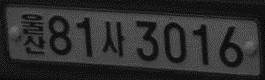0: (163, 21, 187, 63)
1: (190, 22, 209, 67), (75, 16, 94, 58)
3: (134, 19, 160, 62)
6: (218, 24, 245, 69)
8: (47, 14, 72, 56)
사: (101, 19, 126, 58)
울산_V: (19, 12, 47, 56)
